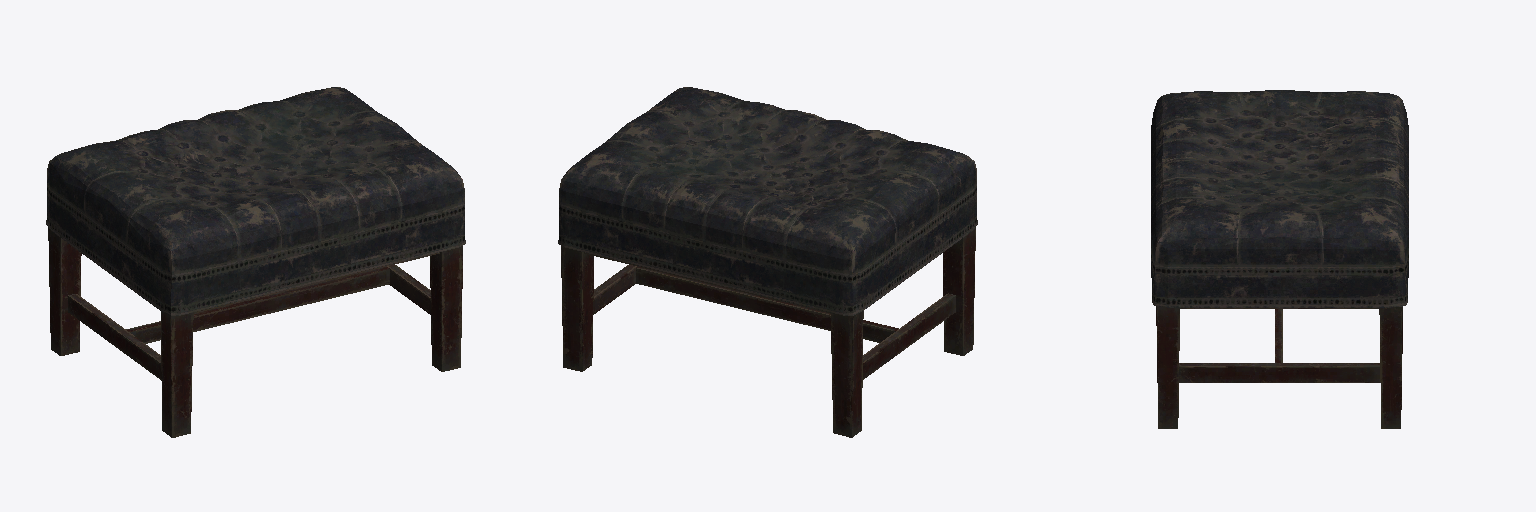
The picture shows the model from 3 angles: view 1: azimuth 30°, elevation 25°; view 2: azimuth 150°, elevation 25°; view 3: azimuth 270°, elevation 25°; orthographic projection.
Parts seen in each view (by area): view 1: Asylum_Bench01_8; view 2: Asylum_Bench01_8; view 3: Asylum_Bench01_8.
Part boxes in pixels (x1,y1,x2,y2): Asylum_Bench01_8: (46,87,465,437); Asylum_Bench01_8: (558,87,977,437); Asylum_Bench01_8: (1151,90,1408,428).
Bounding box in the file's own units: 52.5 × 34.3 × 39.09.
1 materials, 1 textured.